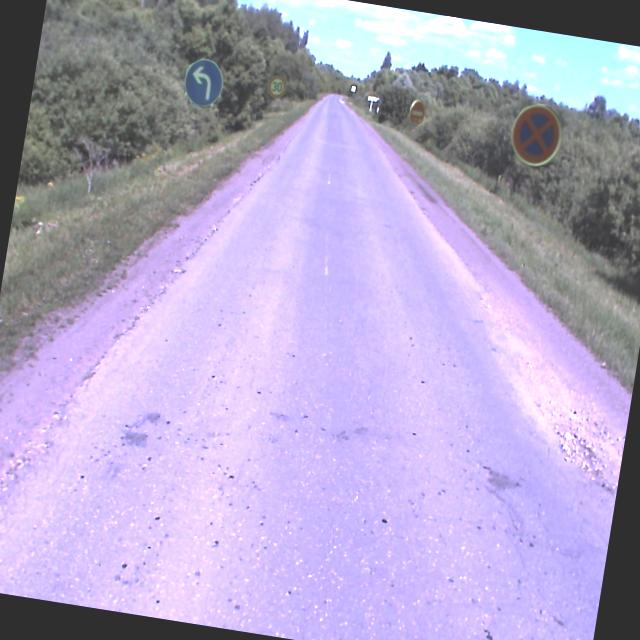road: (0, 94, 617, 640)
